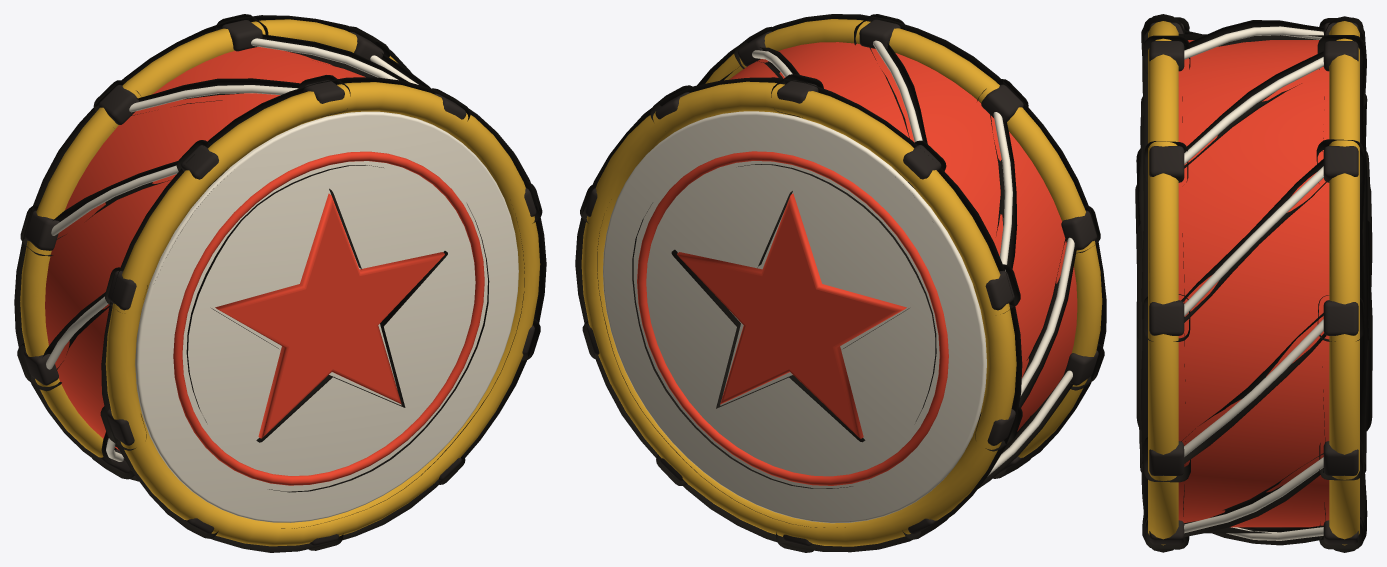
Rendered from bassdrum.glb.
3 views of the same model, side by side, from view 1: azimuth 30°, elevation 25°; view 2: azimuth 150°, elevation 25°; view 3: azimuth 270°, elevation 25° (orthographic). The views are drawn at different scales.
Parts seen in each view (by area): view 1: BassDrum, BassDrum_outline; view 2: BassDrum, BassDrum_outline; view 3: BassDrum, BassDrum_outline.
Boxes of the visible parts, x1,y1,x2,y2 form: BassDrum: [20, 19, 540, 546]; BassDrum_outline: [14, 14, 546, 552]; BassDrum: [581, 19, 1102, 546]; BassDrum_outline: [575, 14, 1106, 552]; BassDrum: [1148, 21, 1359, 545]; BassDrum_outline: [1135, 14, 1372, 552].
Bounding box in the file's own units: 3.09 × 3.1 × 1.36.
